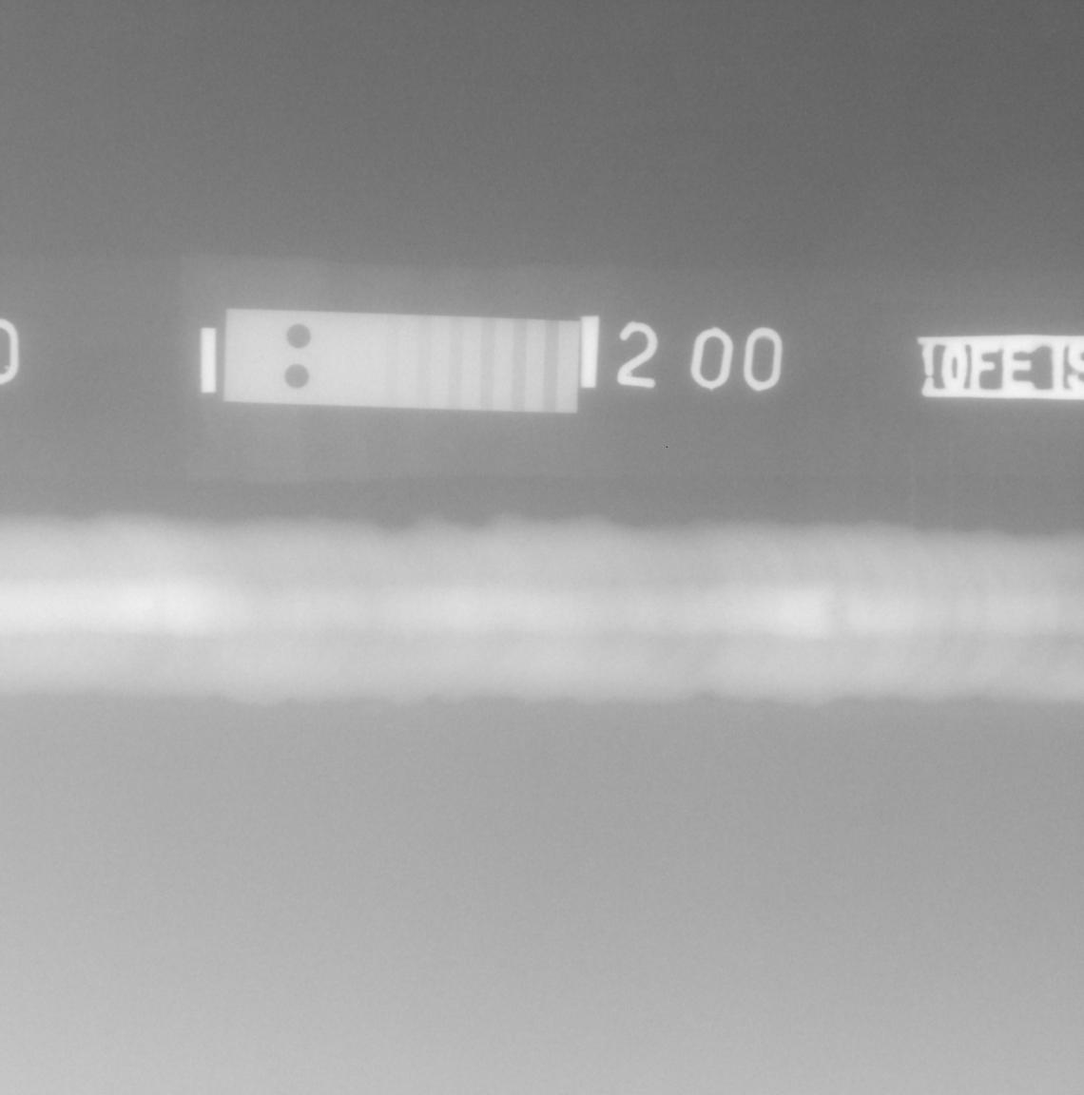Inclusion: (660, 619, 667, 624), (832, 608, 837, 615), (727, 602, 732, 606), (842, 607, 846, 610)
Pore/Porosity: (609, 577, 618, 585)
Reference Standard 2: (223, 309, 580, 413)
